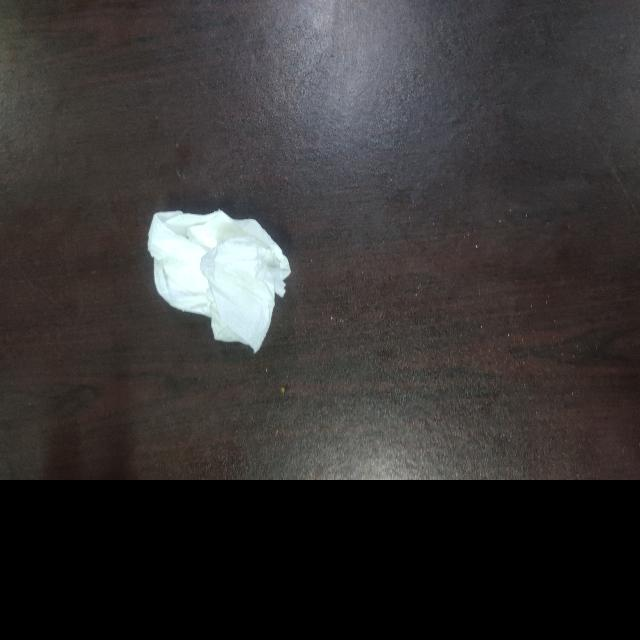kitchen paper: (142, 203, 296, 365)
